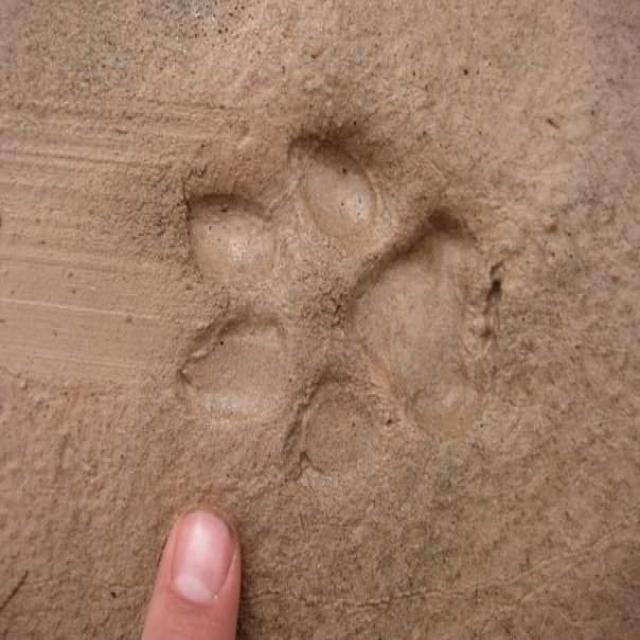canid: (174, 130, 486, 482)
